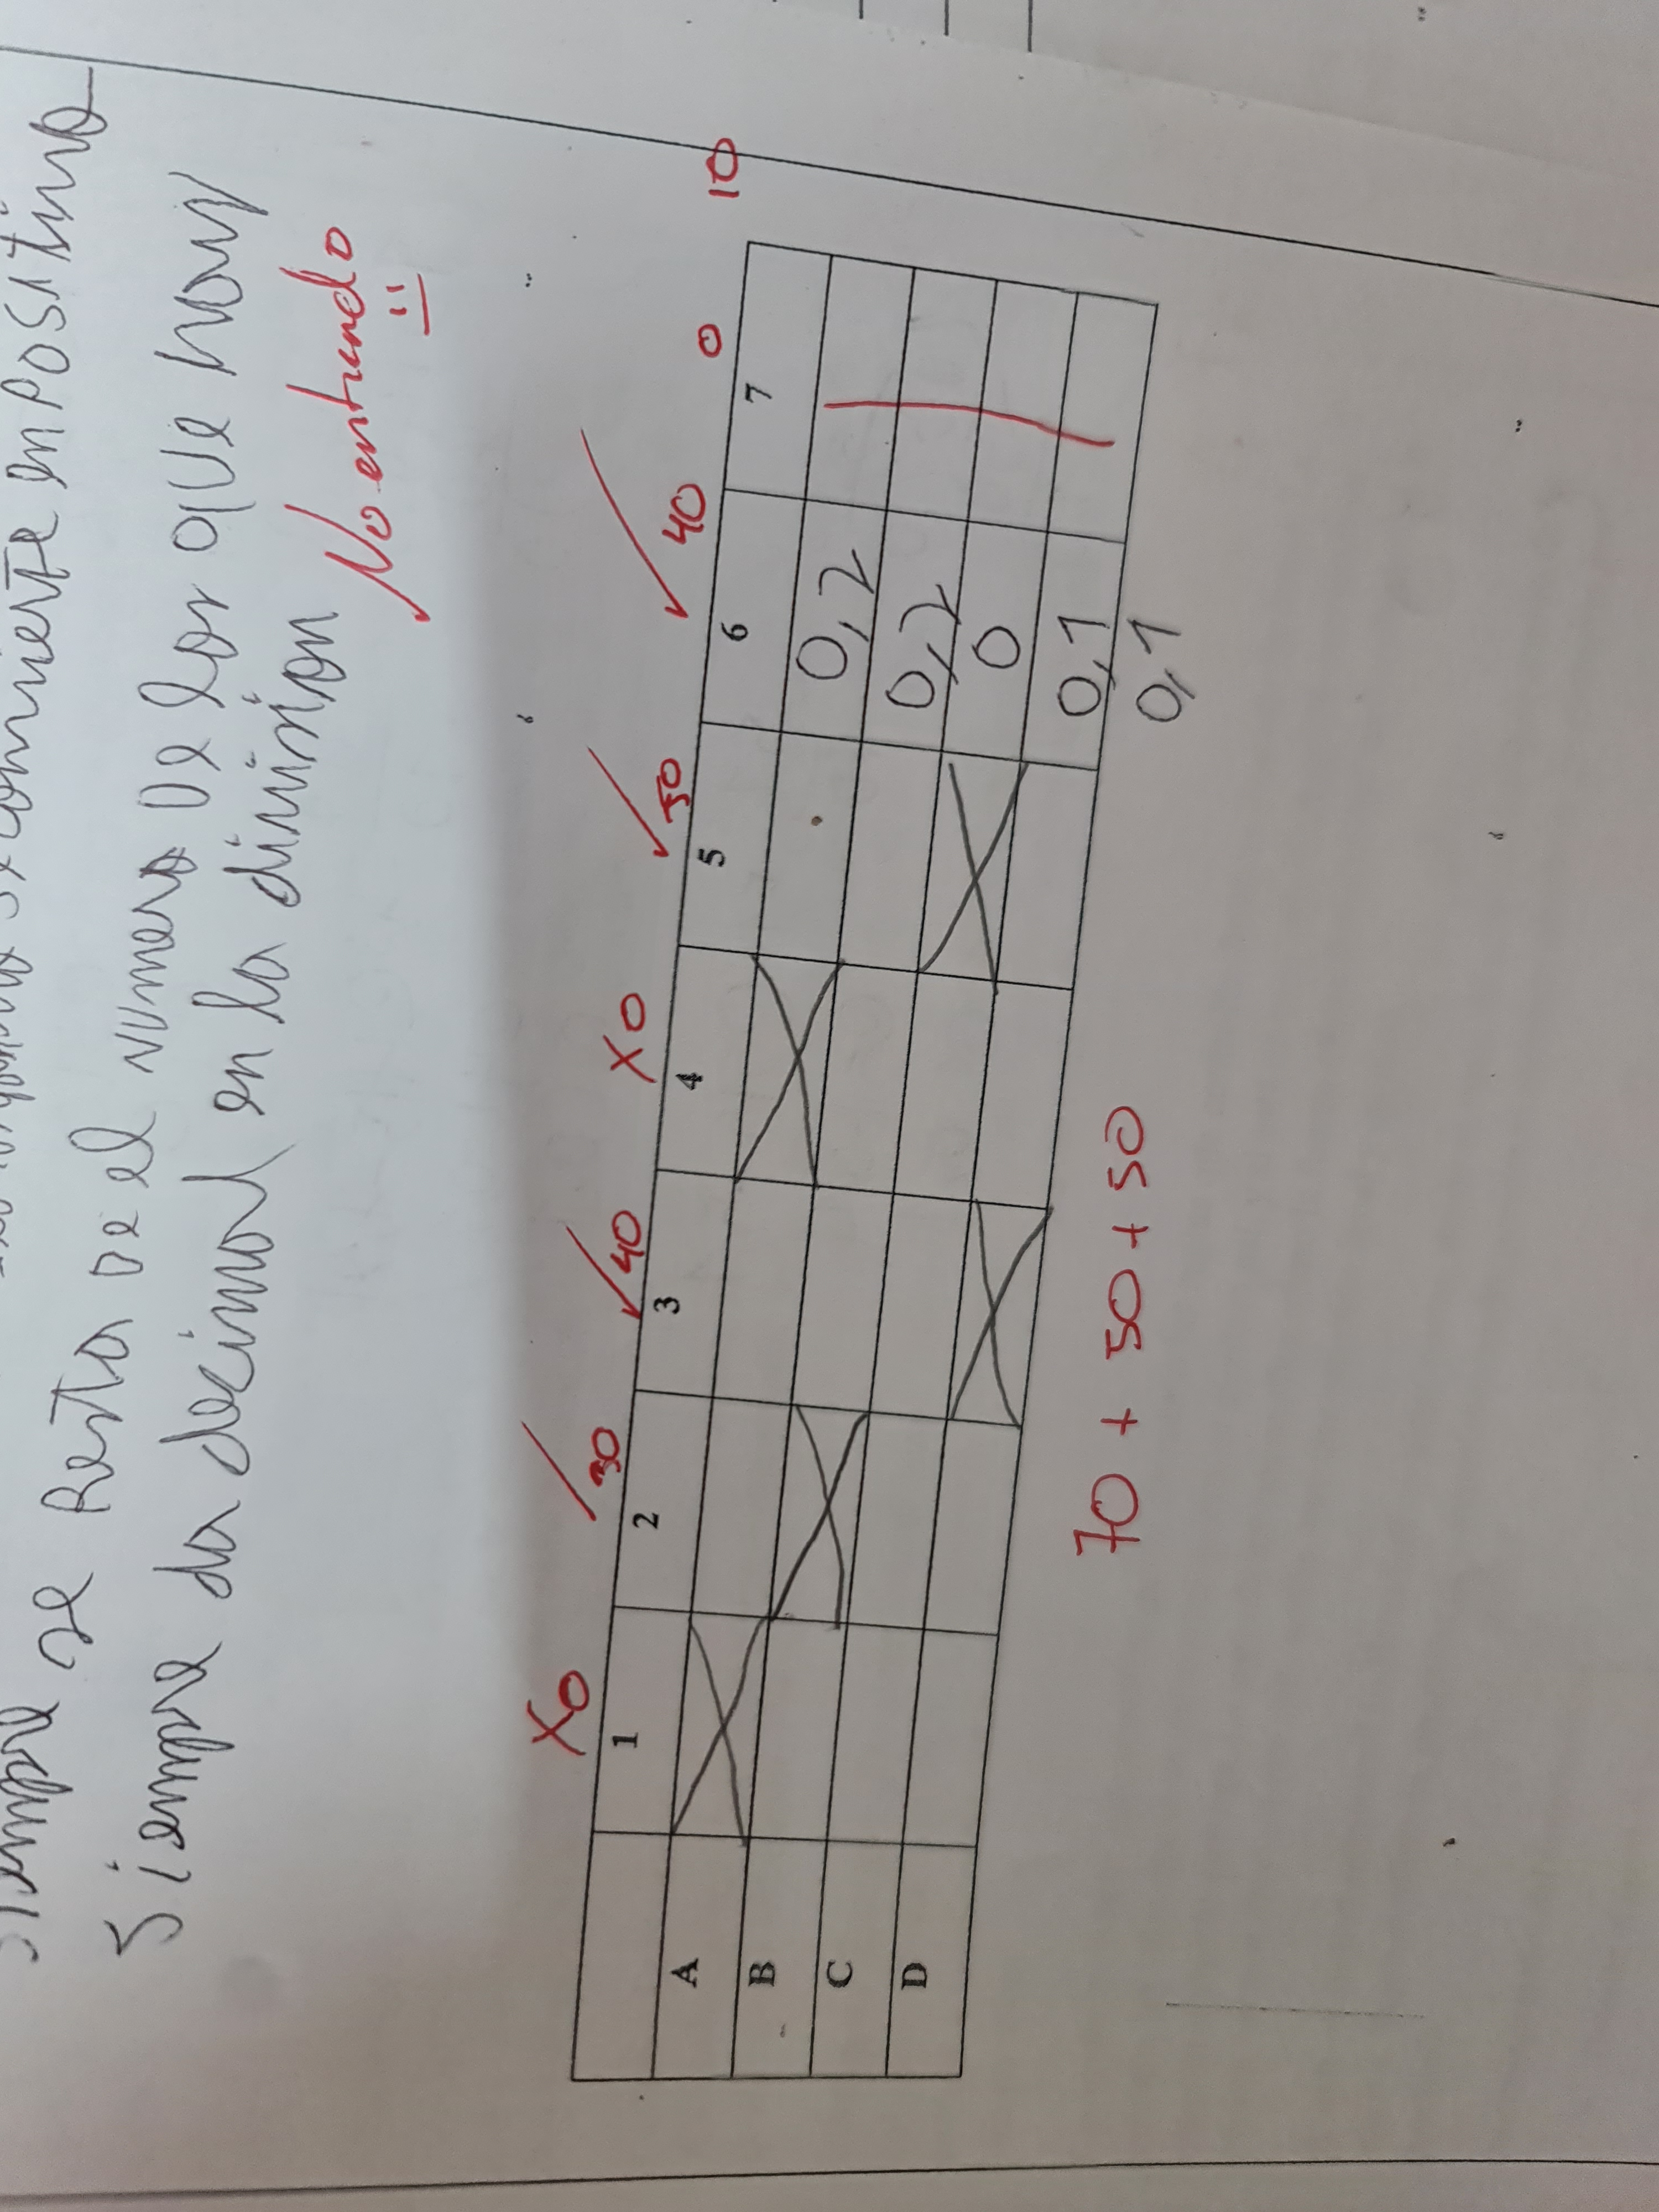column: (613, 928, 1107, 1211), (551, 1822, 1007, 2104), (636, 740, 1147, 989), (636, 1148, 1060, 1444), (565, 1595, 1037, 1858), (575, 1399, 1054, 1639)
